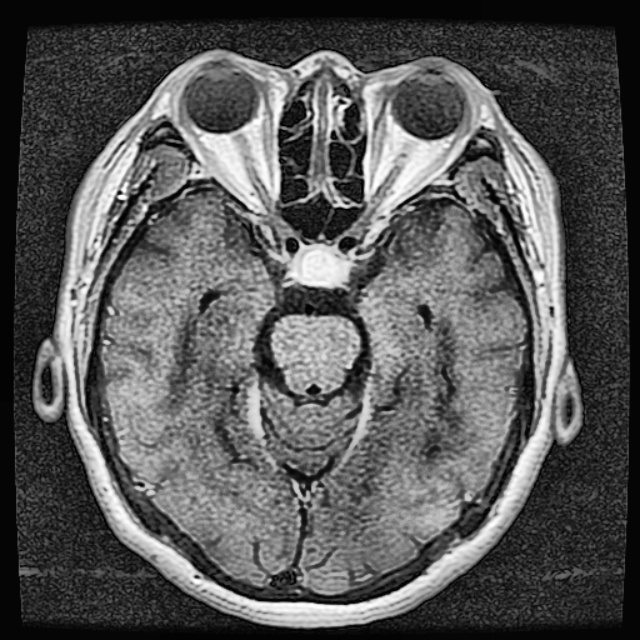Pituitary: (292, 243, 344, 285)
